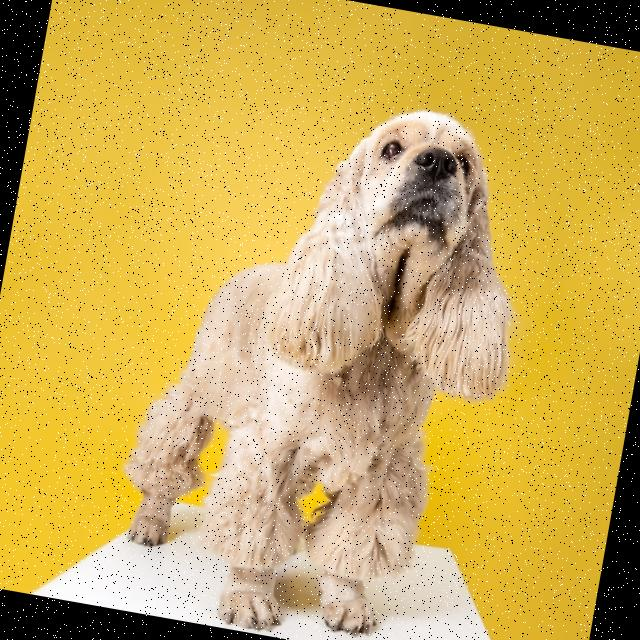Dog: (101, 68, 549, 640)
